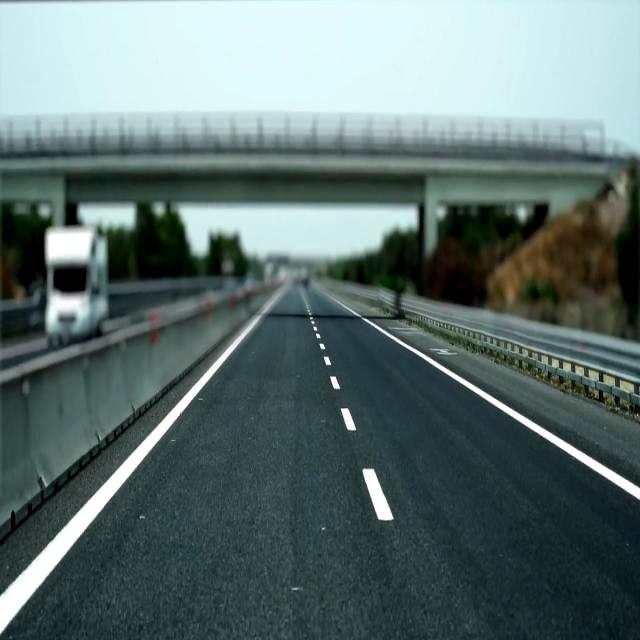lane: (0, 286, 289, 634), (331, 298, 640, 501), (362, 469, 394, 521), (342, 408, 356, 431), (331, 376, 340, 389), (164, 437, 173, 439)
road: (0, 288, 639, 639), (0, 349, 222, 591), (373, 318, 639, 484)
